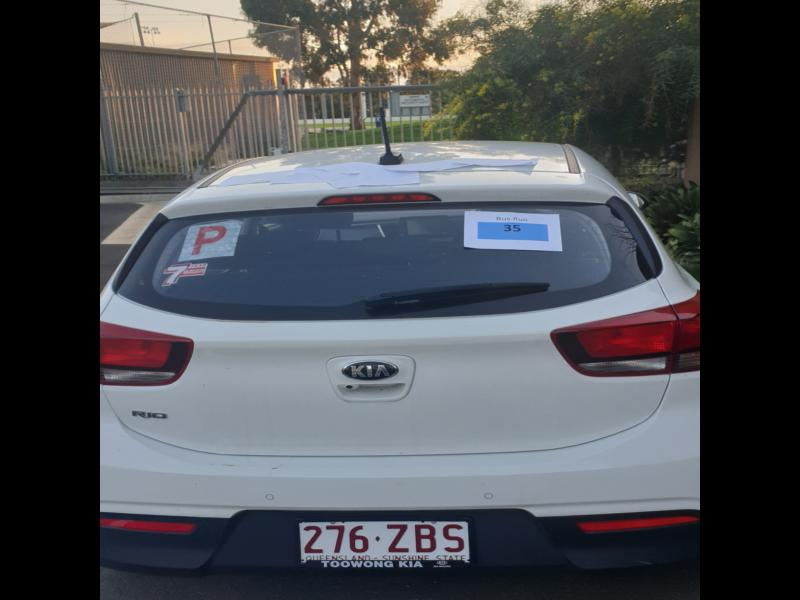BusRun: (474, 219, 551, 242)
PlateNo: (295, 518, 472, 565)
